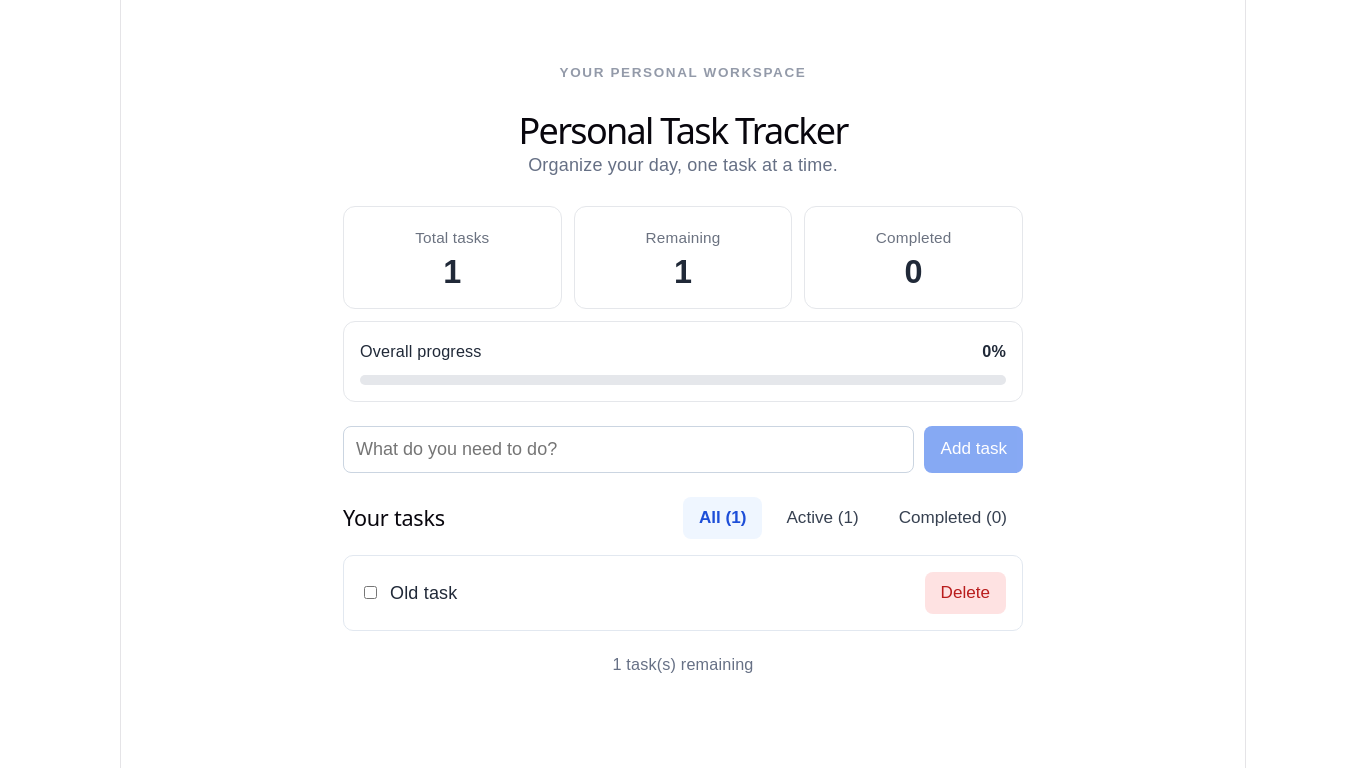
Test: Personal Task Tracker › deletes a task
The width and height of the screenshot is (1366, 768).
Check: the text "Old task" is shown, box [390, 580, 458, 606]
Click the button with aria-label "Delete Old task" at (965, 593), box [925, 572, 1006, 614]
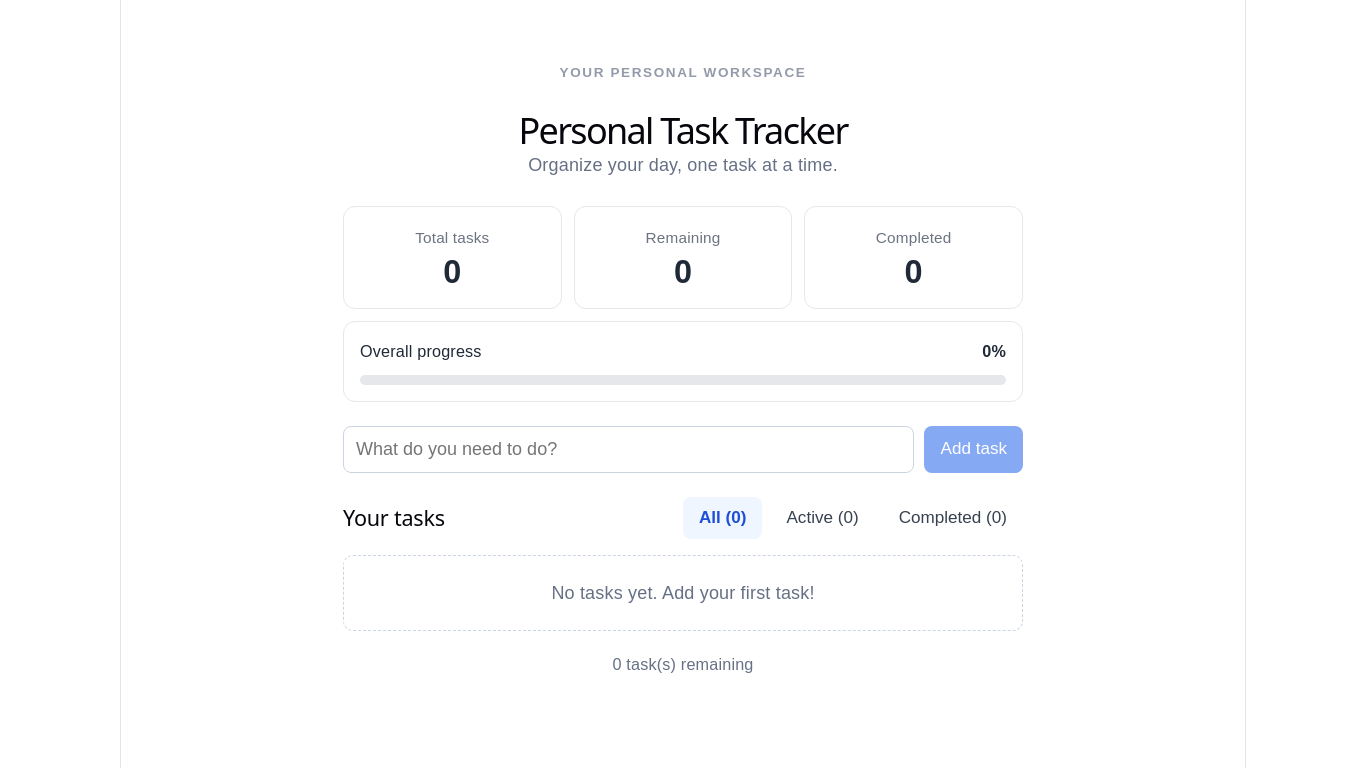
Check: the text "Old task" is gone
